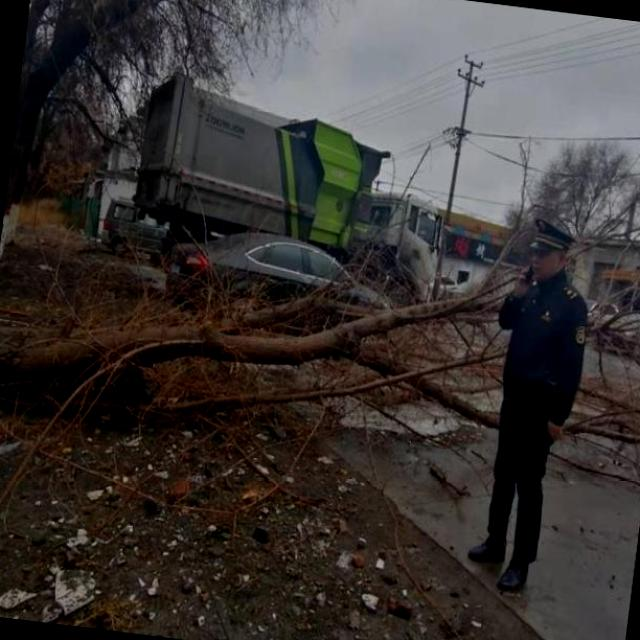fallen_object: (0, 221, 515, 455)
